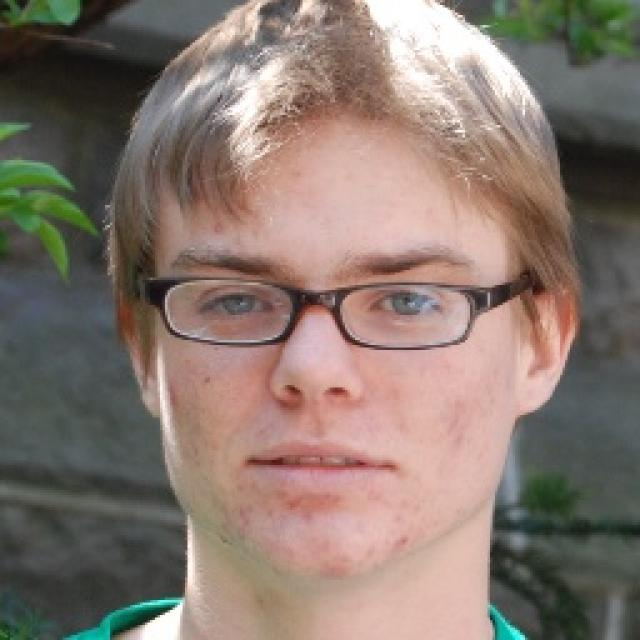earlobe: (514, 377, 551, 419), (138, 382, 160, 416)
eye: (370, 287, 440, 321), (196, 288, 275, 318)
nose: (271, 386, 360, 438)
wholeear: (515, 279, 580, 419), (119, 290, 160, 416)
